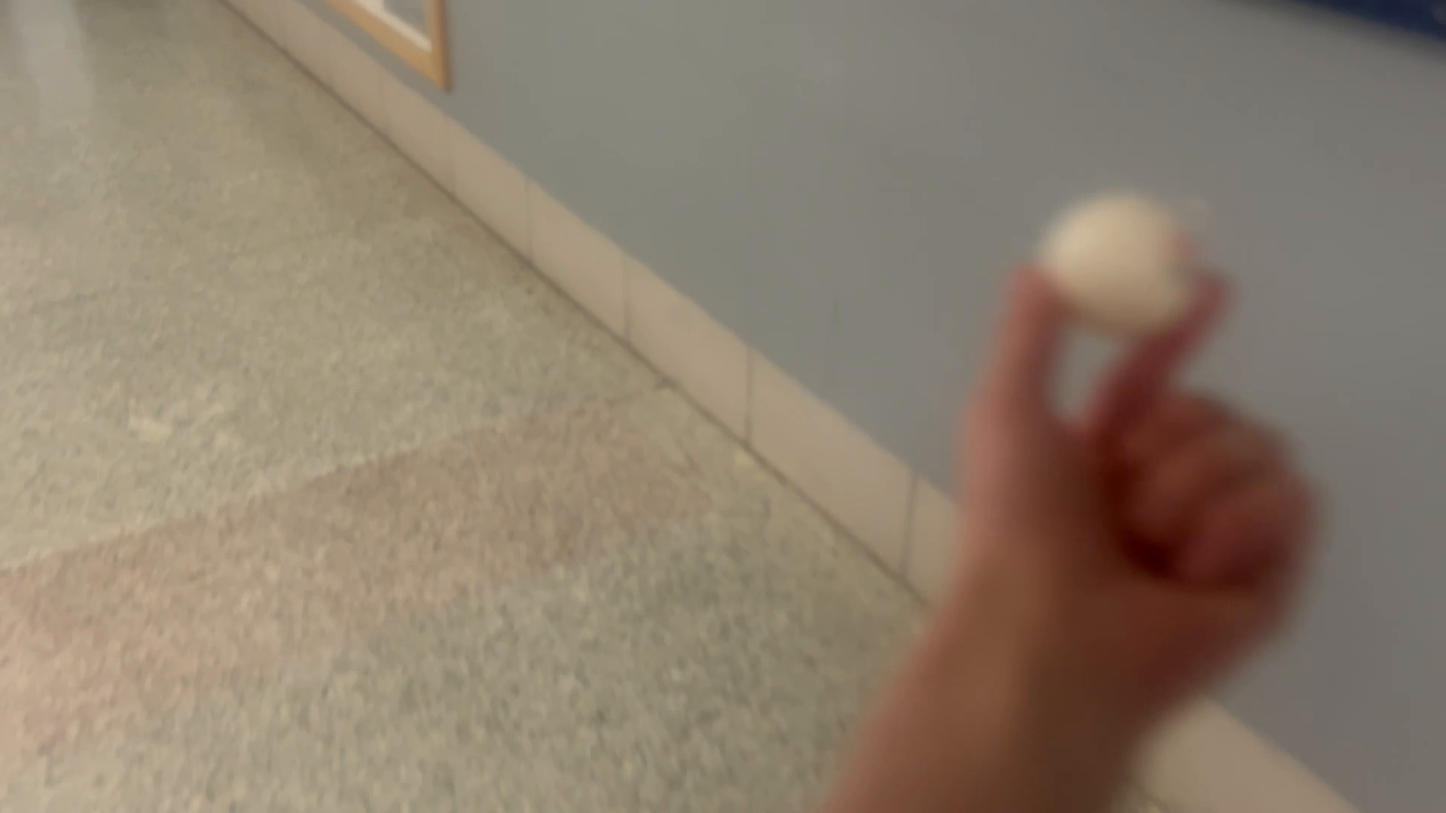Ball: (1045, 188, 1199, 343)
